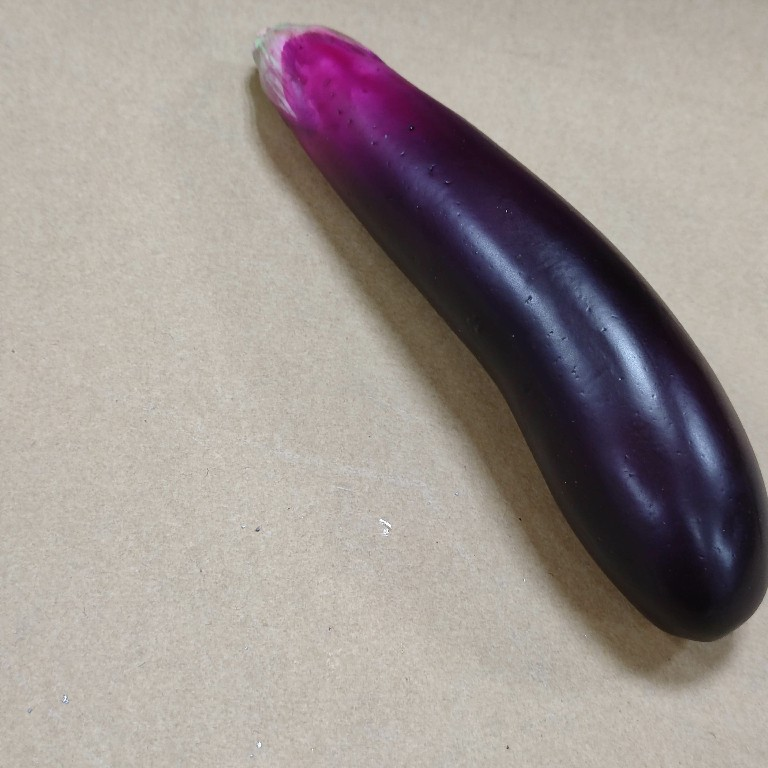fruit_eggplant: (250, 18, 768, 646)
